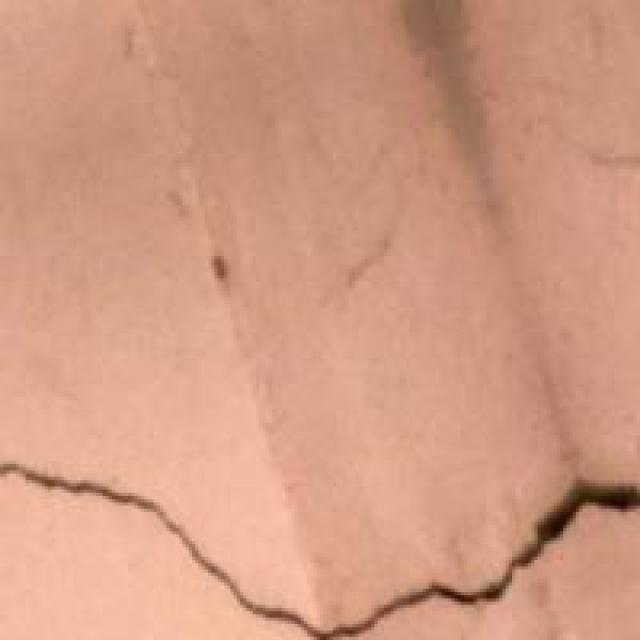crack: (0, 397, 637, 637)
